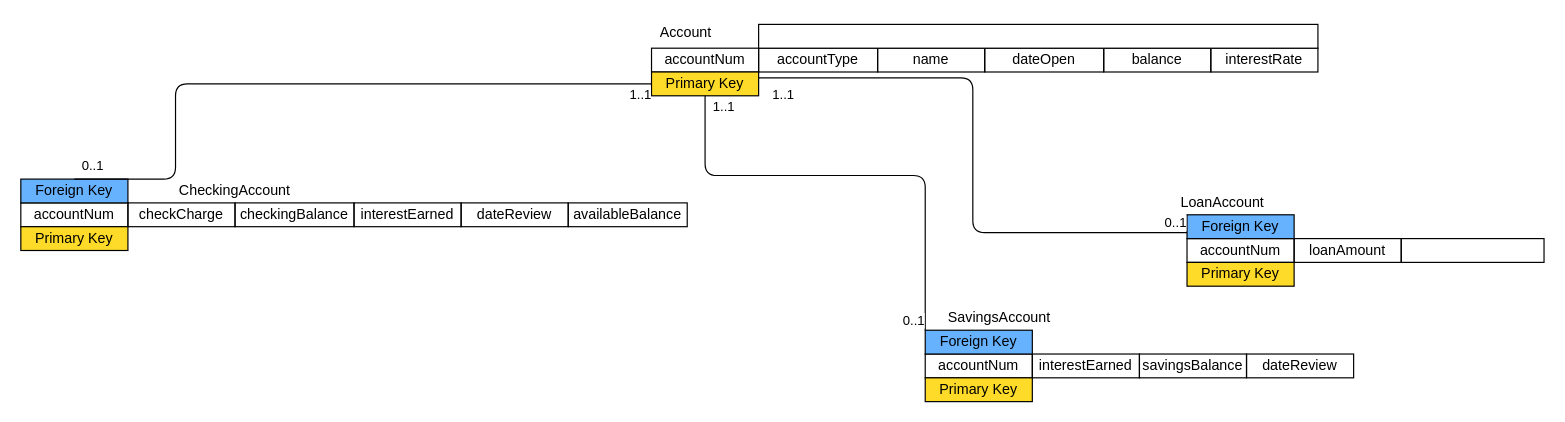
This 1565x422 diagram has some shape labels left out. Here are the shapes that lost their labels. From the top down, the box of each, then its label:
(757, 23, 1318, 48): Candidate Key
(1400, 237, 1544, 262): loanBalance
